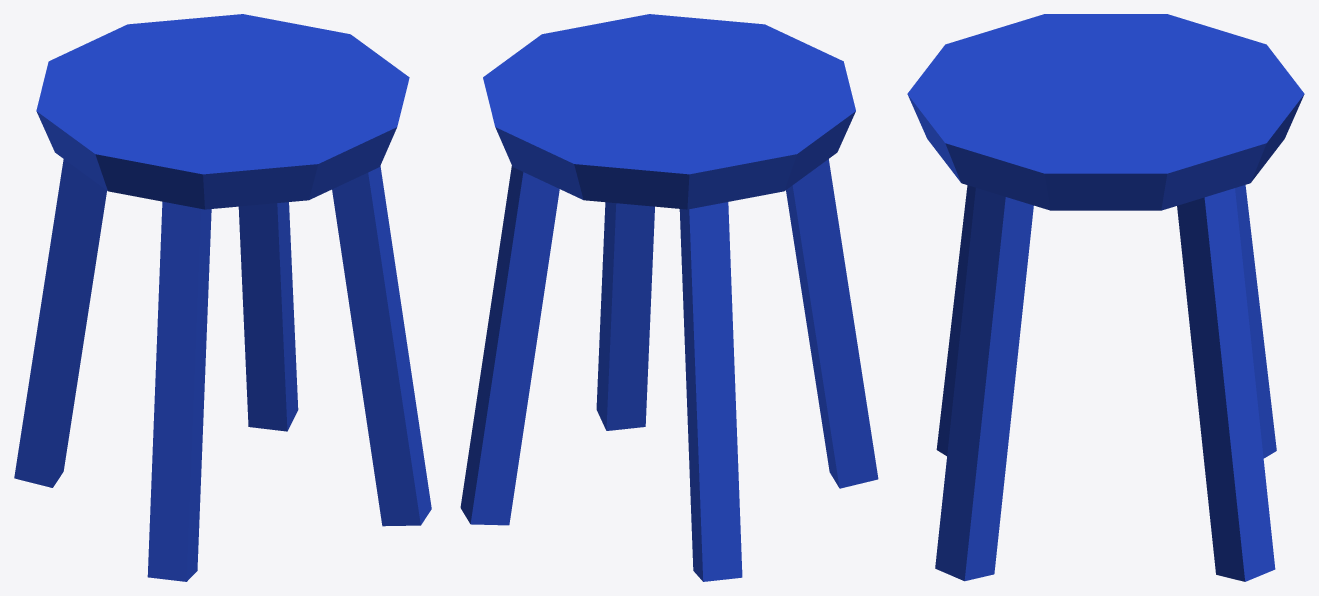
File: env_stool_blue.fbx
3 views of the same model, side by side, from view 1: azimuth 30°, elevation 25°; view 2: azimuth 150°, elevation 25°; view 3: azimuth 270°, elevation 25° (orthographic). The views are drawn at different scales.
Parts seen in each view (by area): view 1: env_stool_blue_geo; view 2: env_stool_blue_geo; view 3: env_stool_blue_geo.
Part boxes in pixels (left/top/right/bottom): env_stool_blue_geo: left=14, top=14, right=431, bottom=581; env_stool_blue_geo: left=460, top=14, right=878, bottom=581; env_stool_blue_geo: left=907, top=14, right=1304, bottom=581.
Bounding box in the file's own units: 0.3804 × 0.468 × 0.4.
